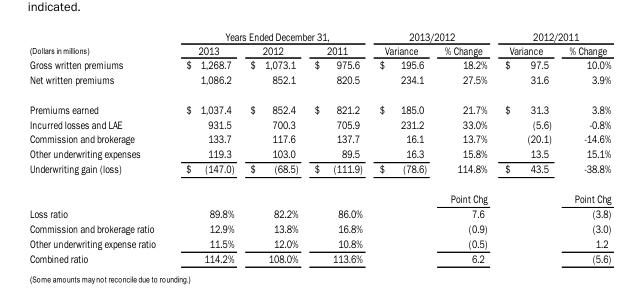table: (28, 29, 610, 264)
table column: (28, 29, 170, 264), (170, 29, 241, 264), (305, 29, 370, 264), (241, 29, 305, 264), (370, 29, 434, 264), (495, 29, 559, 264), (434, 29, 495, 264), (559, 29, 610, 264)
table column header: (28, 29, 610, 56)
table row: (28, 93, 610, 116), (28, 160, 610, 183), (28, 71, 610, 93), (28, 183, 610, 205), (28, 56, 610, 71), (28, 116, 610, 131), (28, 131, 610, 146), (28, 205, 610, 220), (28, 220, 610, 235), (28, 235, 610, 250), (28, 42, 610, 56), (28, 146, 610, 160), (28, 250, 610, 264), (28, 29, 610, 42)
table spanning cell: (28, 29, 170, 56), (170, 29, 370, 42), (370, 29, 495, 42), (495, 29, 610, 42)
